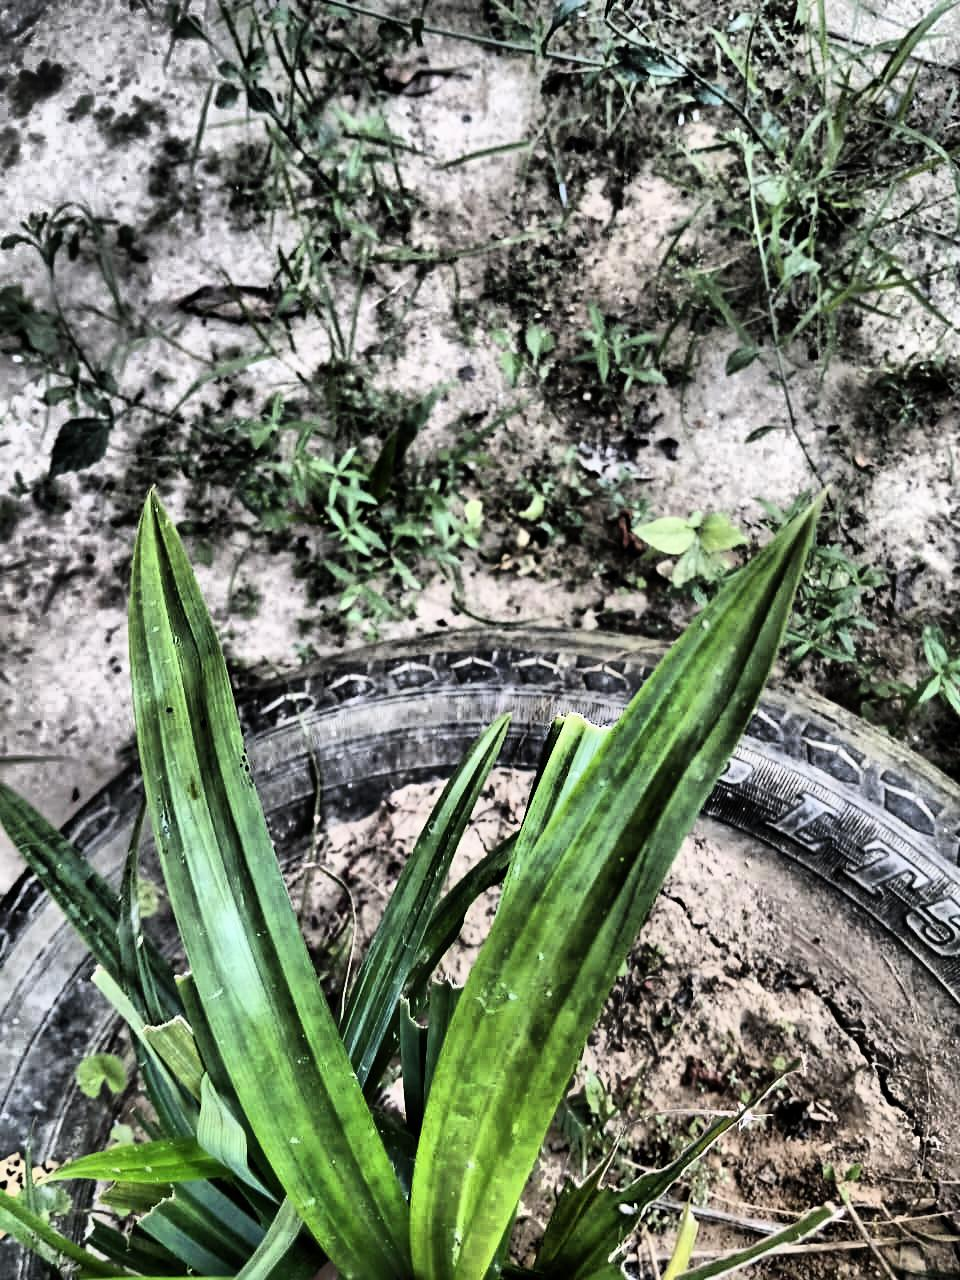daun pandan: (0, 492, 816, 1279)
